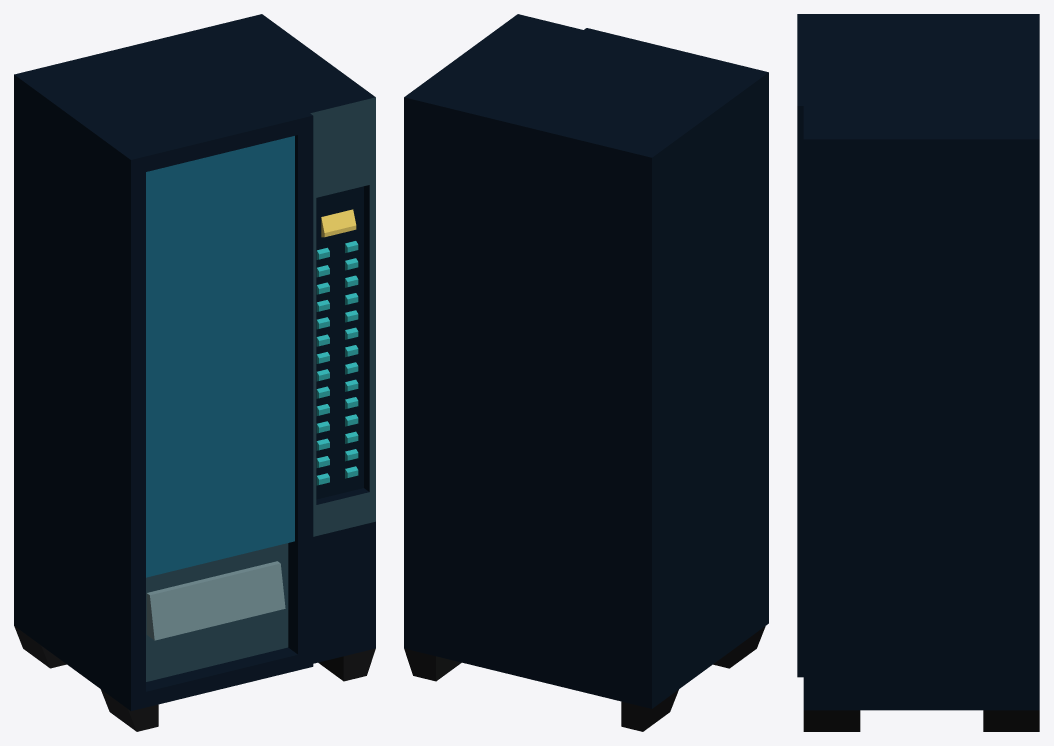
Rendered from vendor.fbx.
3 views of the same model, side by side, from view 1: azimuth 30°, elevation 25°; view 2: azimuth 150°, elevation 25°; view 3: azimuth 270°, elevation 25° (orthographic). The views are drawn at different scales.
Parts seen in each view (by area): view 1: Cube.100; view 2: Cube.100; view 3: Cube.100.
Part boxes in pixels (box(x1,y1,x2,y2)): Cube.100: box(14, 14, 375, 731); Cube.100: box(404, 14, 768, 731); Cube.100: box(797, 14, 1039, 731).
Size of the model in its own units: 128 by 283 by 104.
